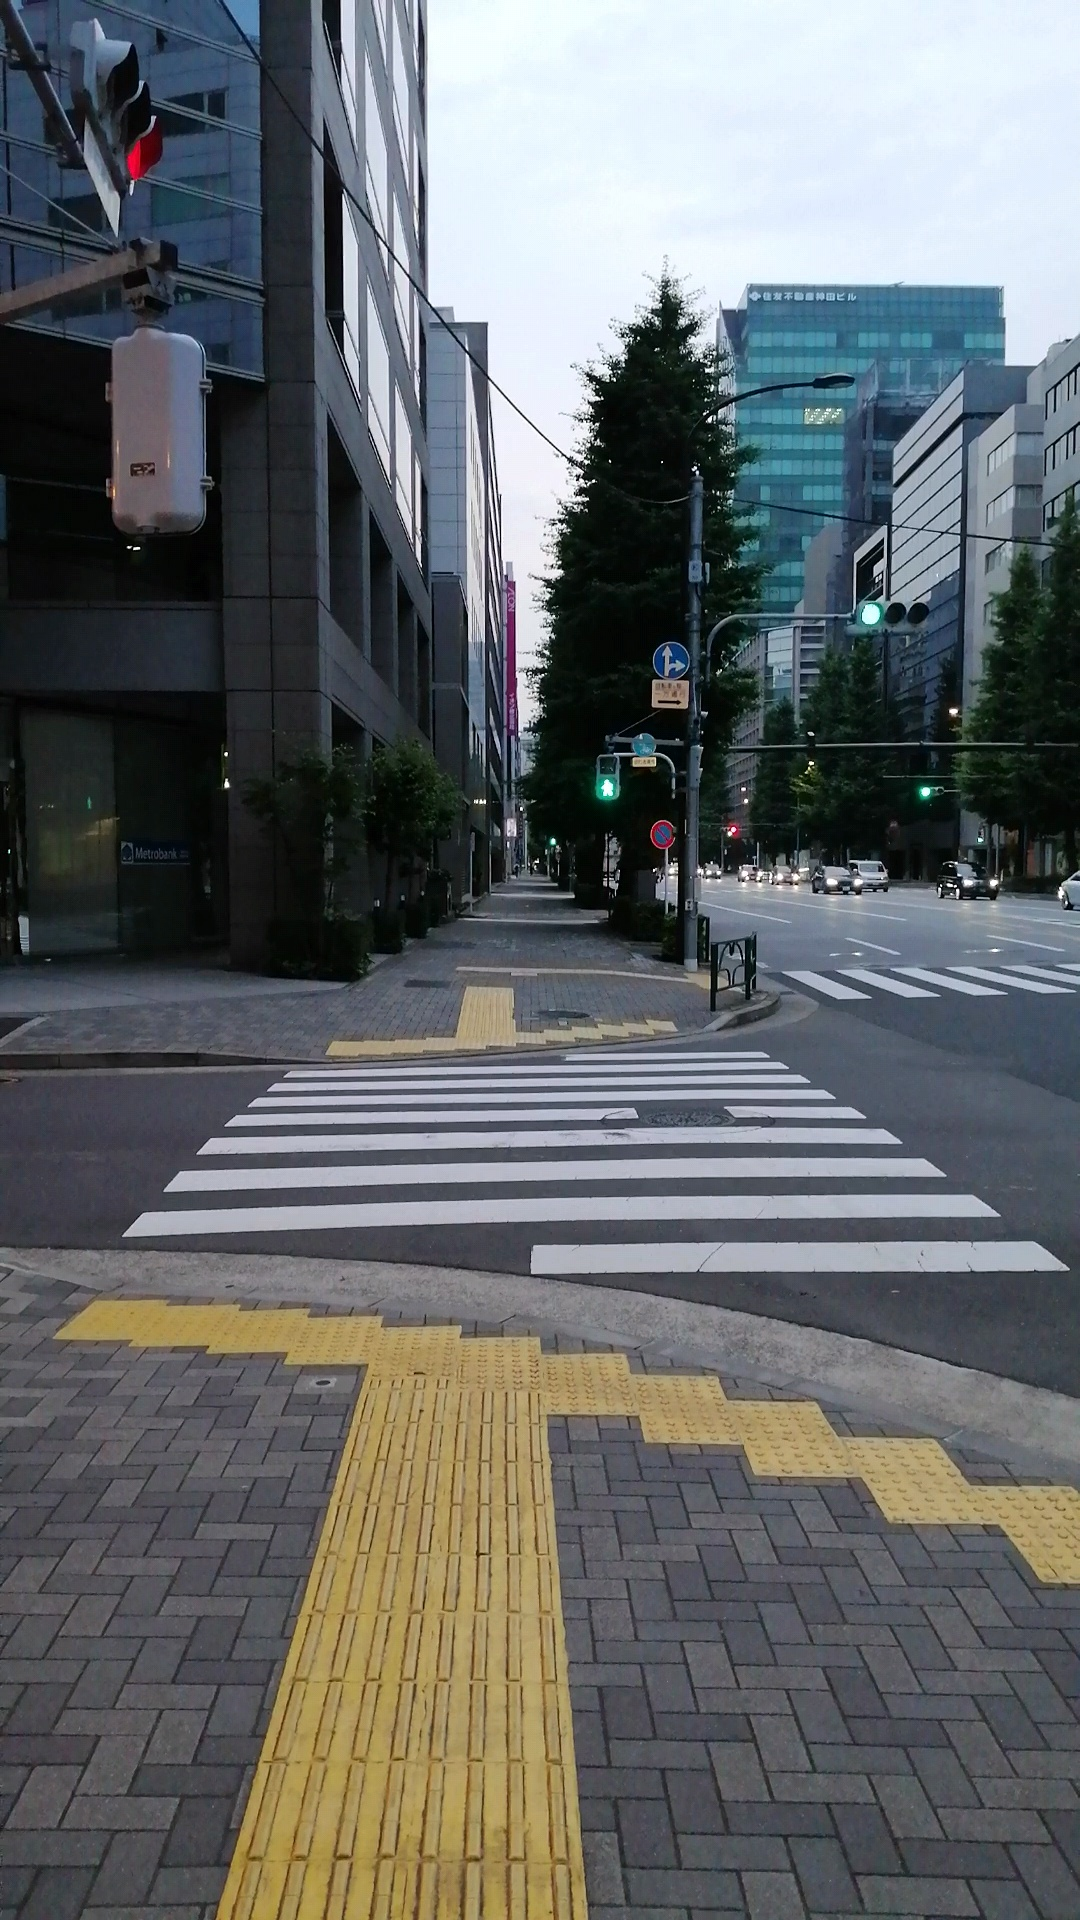green: (595, 756, 618, 802)
